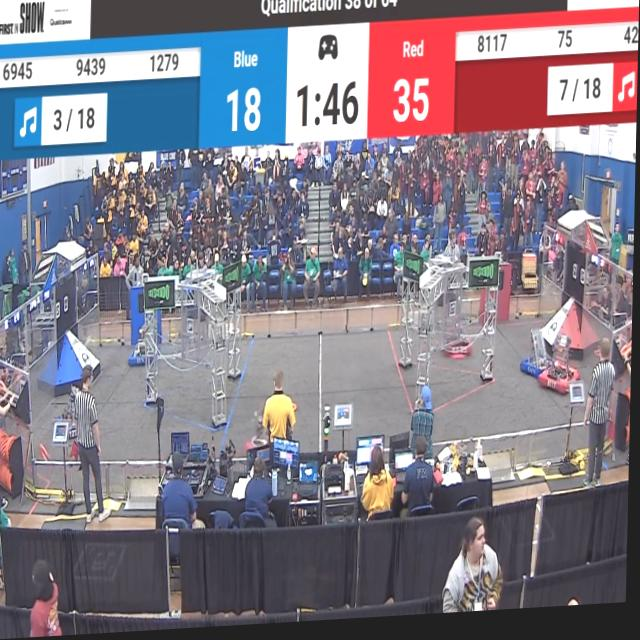Robot: (539, 334, 581, 404), (444, 292, 477, 368), (521, 324, 554, 388), (133, 308, 164, 372), (247, 406, 276, 460)
